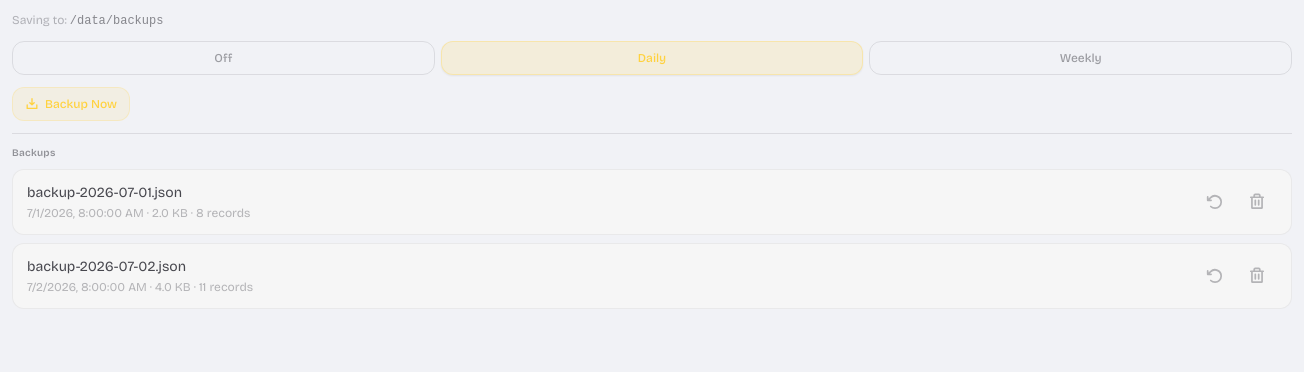
Test: BackupSection › creates a backup when Backup Now is clicked
Check: the text "/data/backups" is shown, box [70,14,163,28]
Click the button "Backup Now".
click(71, 104)  # box [12,87,130,121]
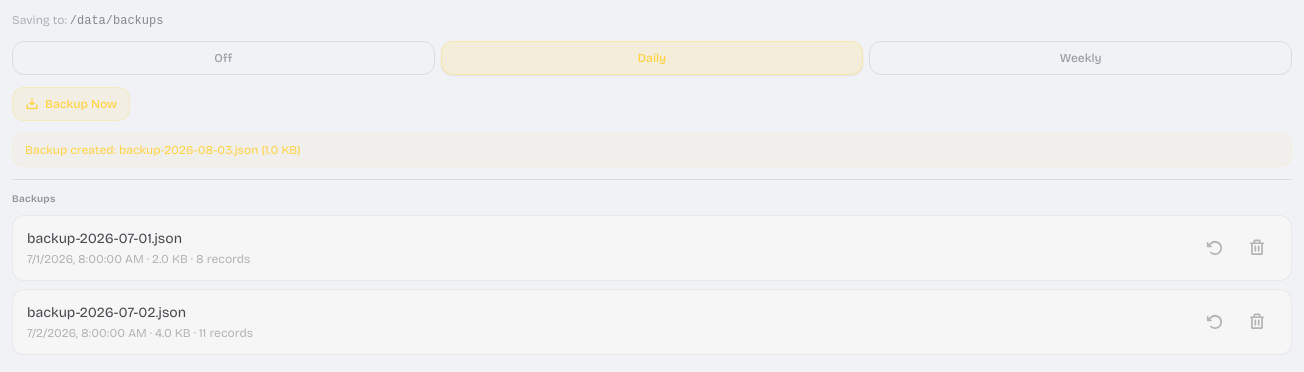
Check: the text "Backup created: backup-2026-08-03.json (1.0 KB)" is shown, box [12,133,1292,167]
